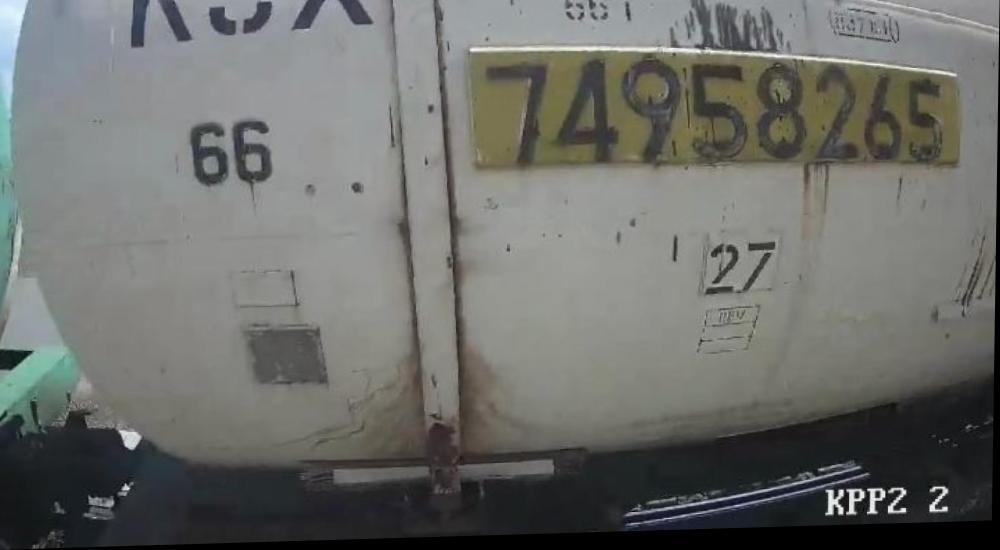Wagon-number: (476, 45, 954, 183)
